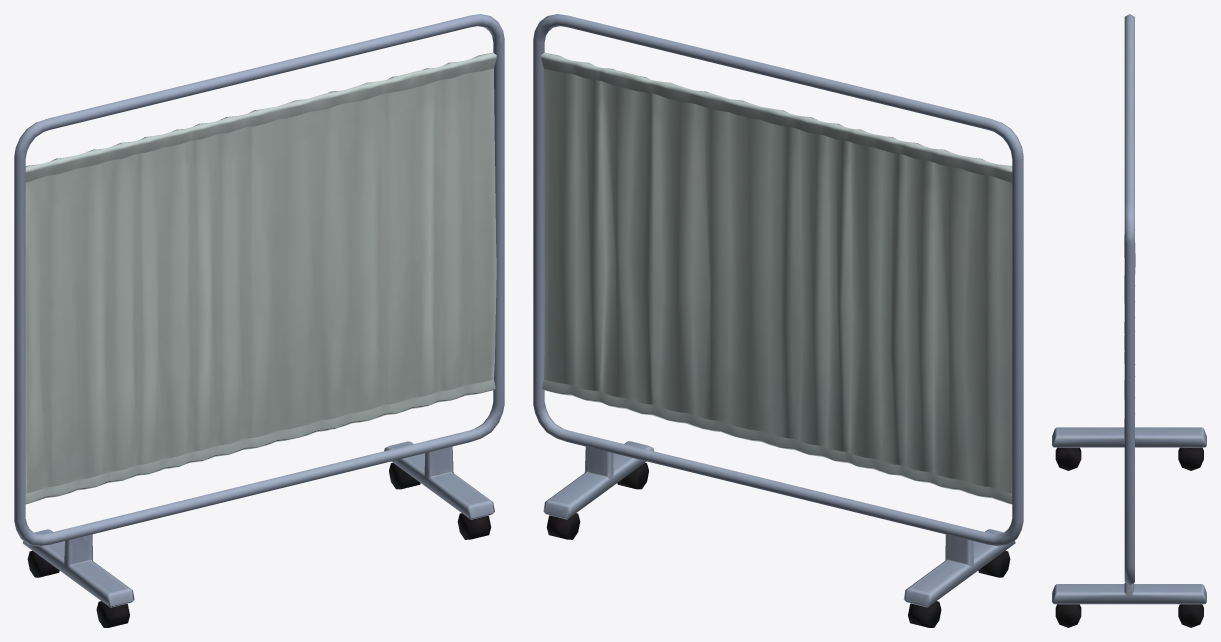
3 views of the same model, side by side, from view 1: azimuth 30°, elevation 25°; view 2: azimuth 150°, elevation 25°; view 3: azimuth 270°, elevation 25° (orthographic). The views are drawn at different scales.
Bounding box in the file's own units: 18.26 × 17.41 × 5.61.
2 materials, 2 textured.
